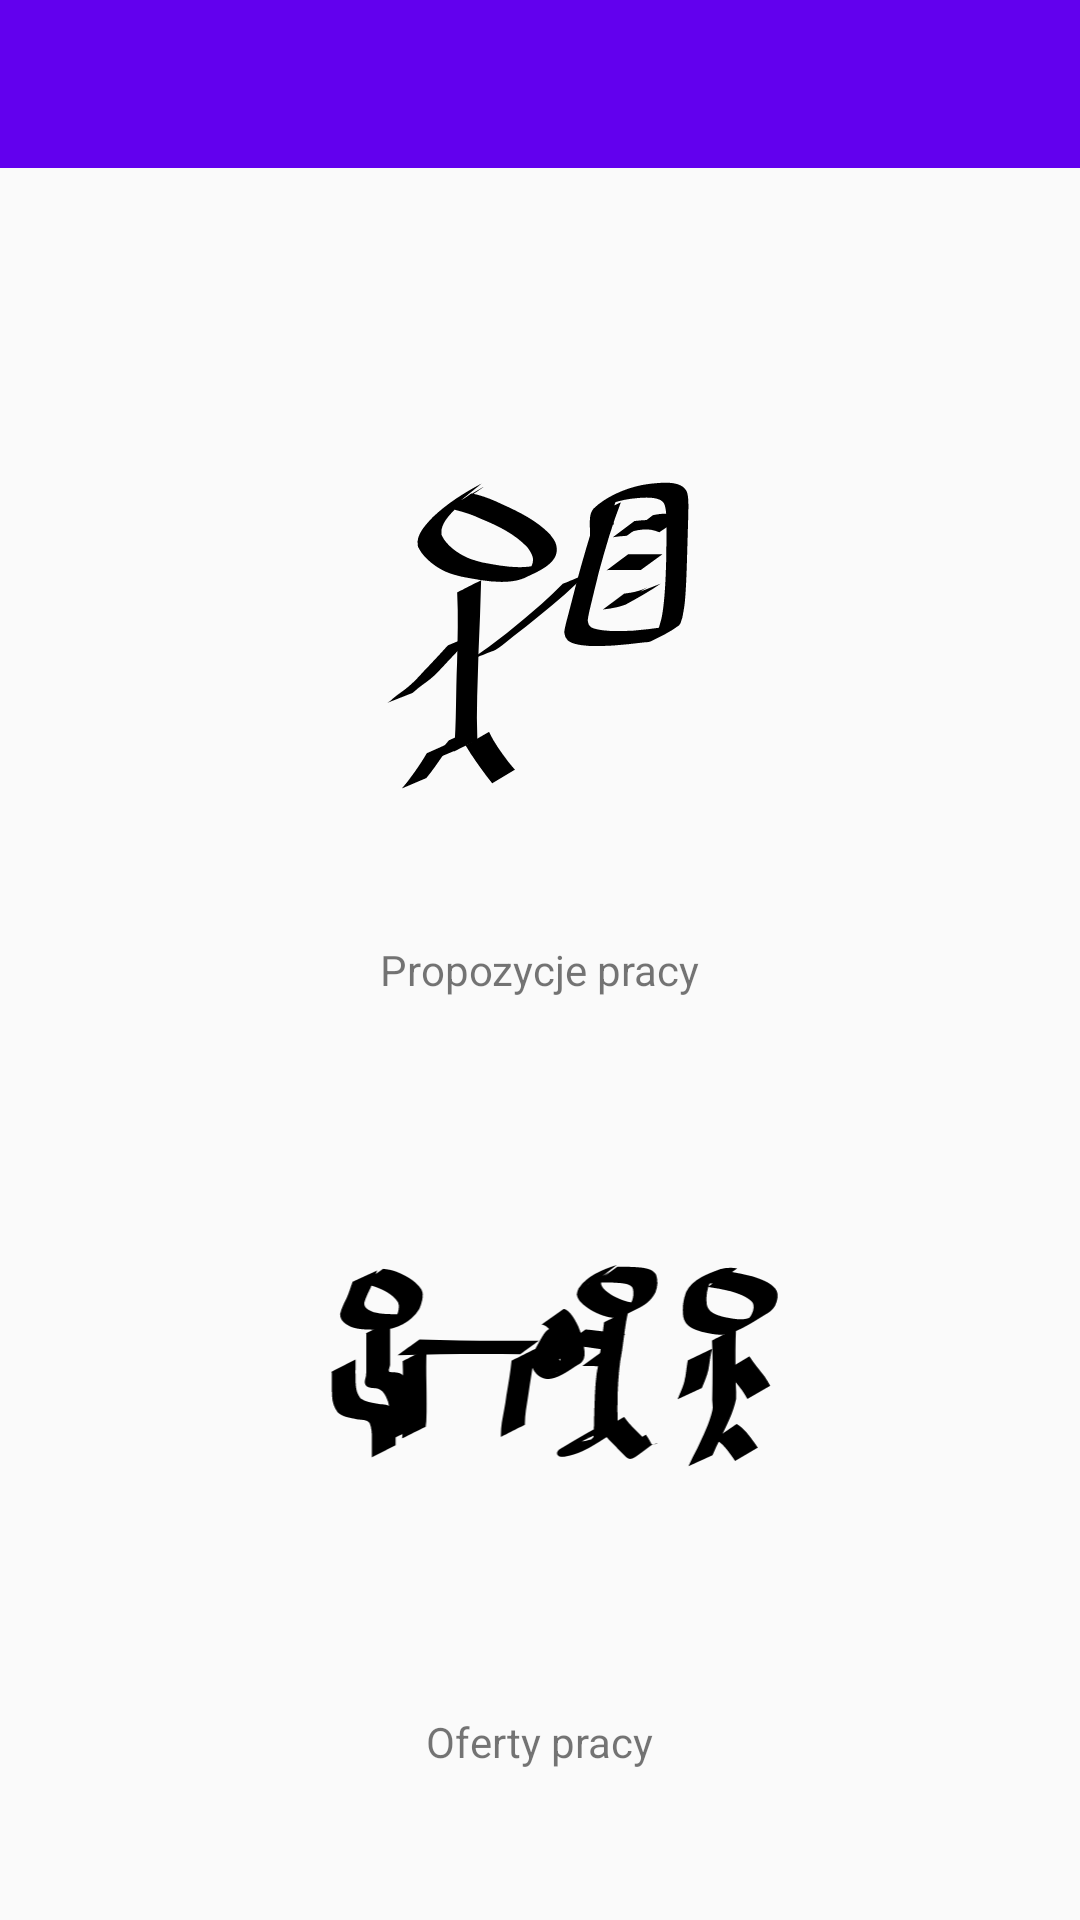

Point at icon controls on the screen. Image size 1080px×1920px, points as (x,y).
Pracownik: (538,635)
